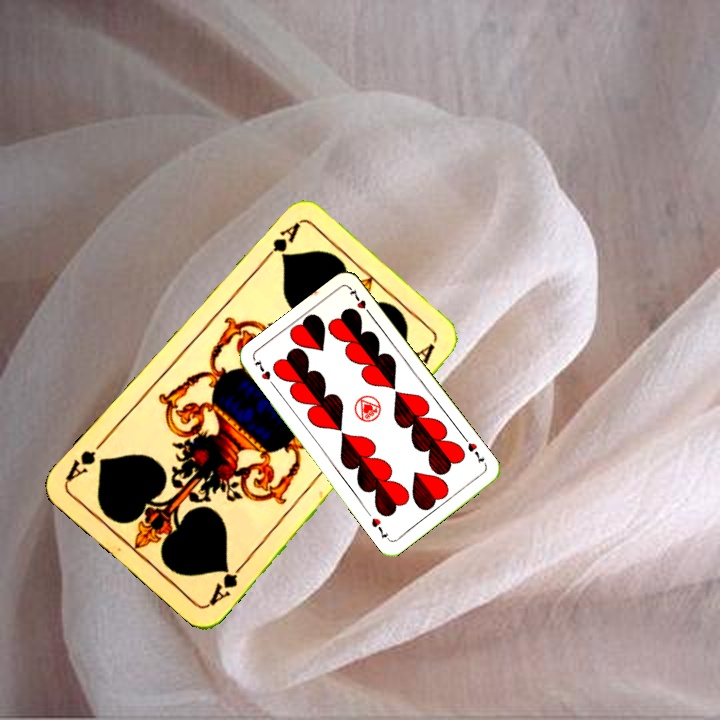GA: (257, 218, 303, 267), (204, 558, 248, 609)
H7: (250, 356, 279, 391), (463, 438, 487, 466)
